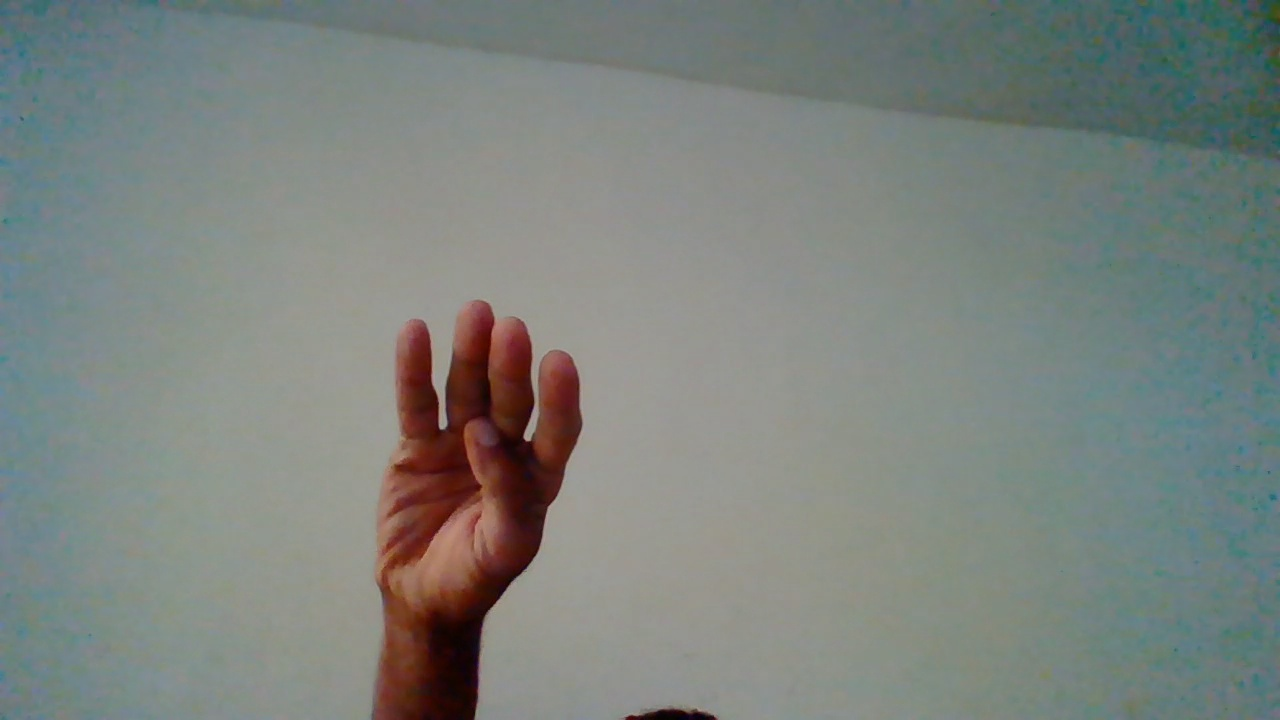me: (384, 290, 607, 720)
